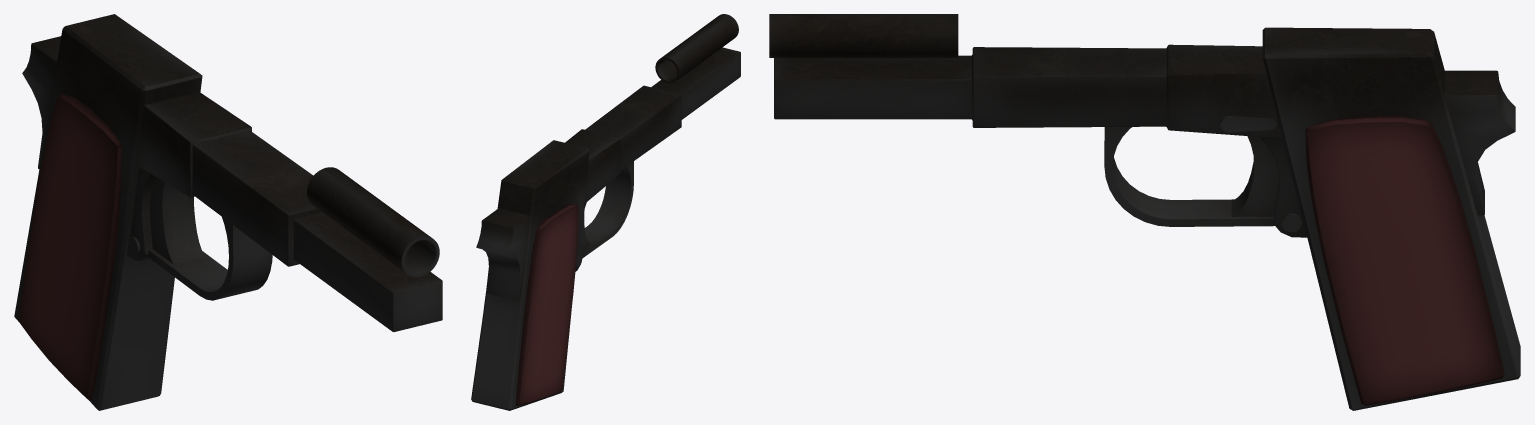
Rendered from handgun_body.obj.
3 views of the same model, side by side, from view 1: azimuth 30°, elevation 25°; view 2: azimuth 150°, elevation 25°; view 3: azimuth 270°, elevation 25° (orthographic). The views are drawn at different scales.
Parts seen in each view (by area): view 1: Gun_base; view 2: Gun_base; view 3: Gun_base.
Boxes of the visible parts, left/top/right/bottom form: Gun_base: left=14, top=14, right=442, bottom=410; Gun_base: left=471, top=14, right=740, bottom=410; Gun_base: left=769, top=14, right=1520, bottom=410.
Size of the model in its own units: 0.8483 by 3.89 by 6.96.
1 material, 1 textured.
